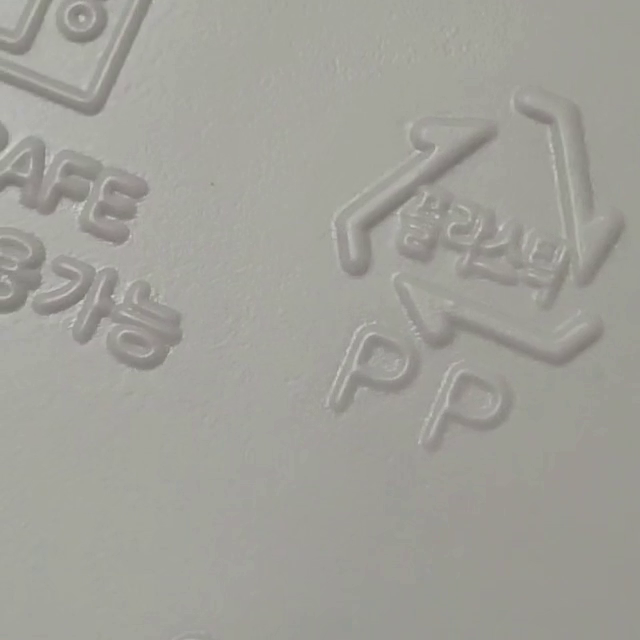Plastic: (334, 93, 624, 370)
